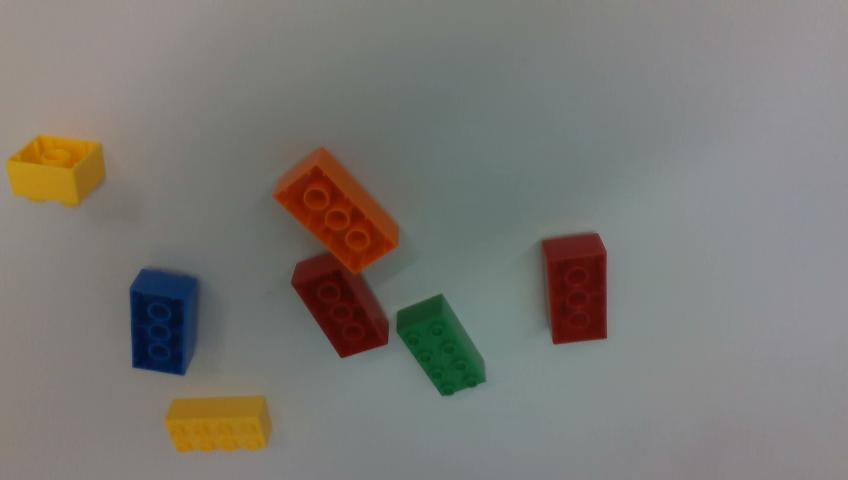2x2_yellow: (7, 135, 104, 206)
4x2_blue: (131, 269, 197, 374)
4x2_green: (397, 294, 485, 395)
4x2_orange: (275, 148, 397, 273)
4x2_red: (288, 254, 388, 357), (542, 233, 606, 341)
4x2_yellow: (165, 396, 271, 452)
